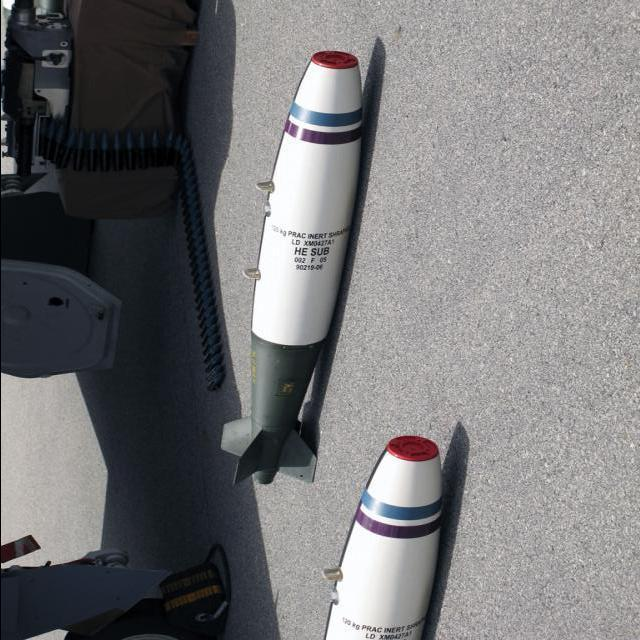missile: (207, 48, 364, 486), (312, 427, 458, 640)
